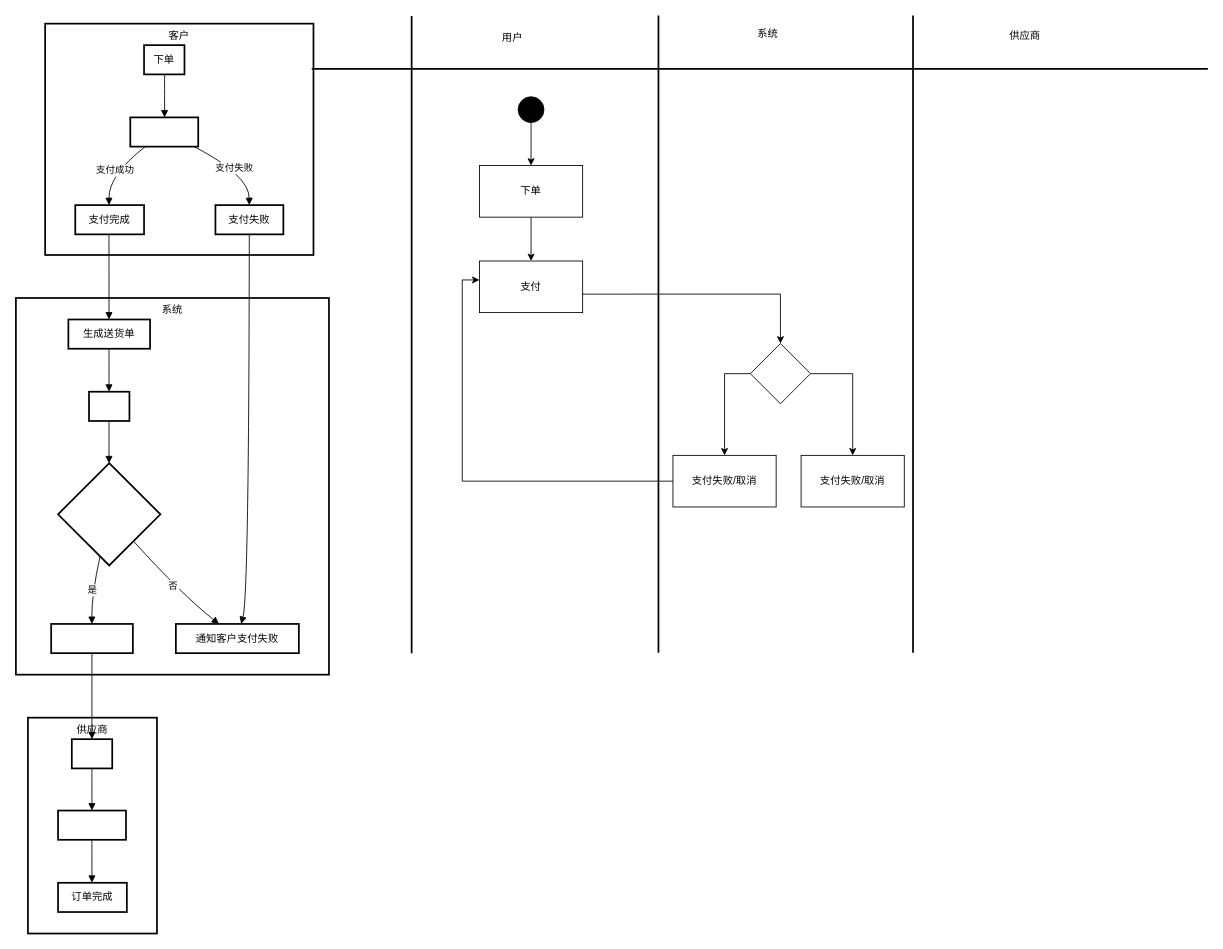
Image size: 1223x949. Some labels were removed from this diagram. Here are the shapes that lost their labels. From the top down, the centre of each, then its label:
At point 164,131: "选择支付".
At point 109,405: "收款".
At point 109,514: "收款成功?".
At point 91,638: "通知供应商".
At point 92,753: "送货".
At point 91,824: "修改订单".
